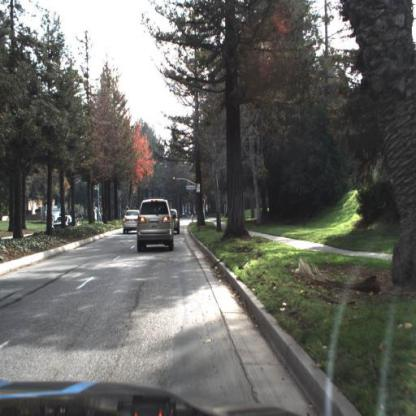car: (134, 195, 179, 258), (124, 210, 142, 236), (51, 213, 75, 231), (52, 214, 73, 232), (171, 207, 181, 233)
pedestrian: (82, 214, 85, 225)
trafficLight-Red: (173, 176, 177, 184)
